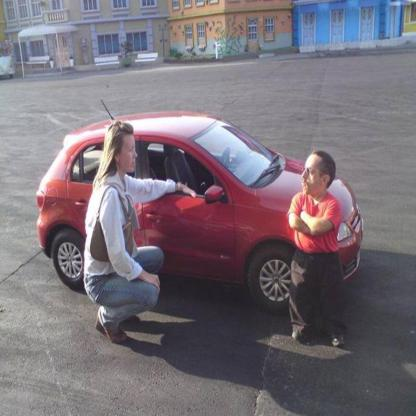face: (303, 156, 321, 196), (122, 136, 138, 174)
